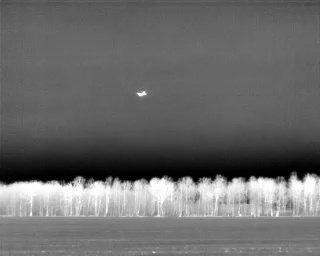DRONE: (133, 86, 151, 101)
